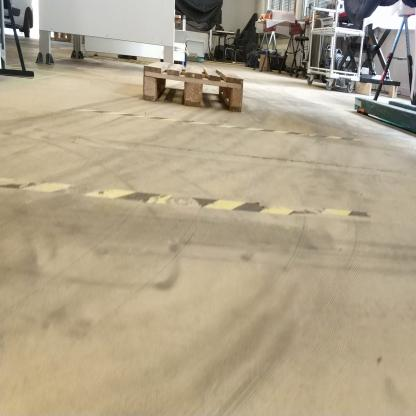BoxFace: (139, 59, 248, 119)
